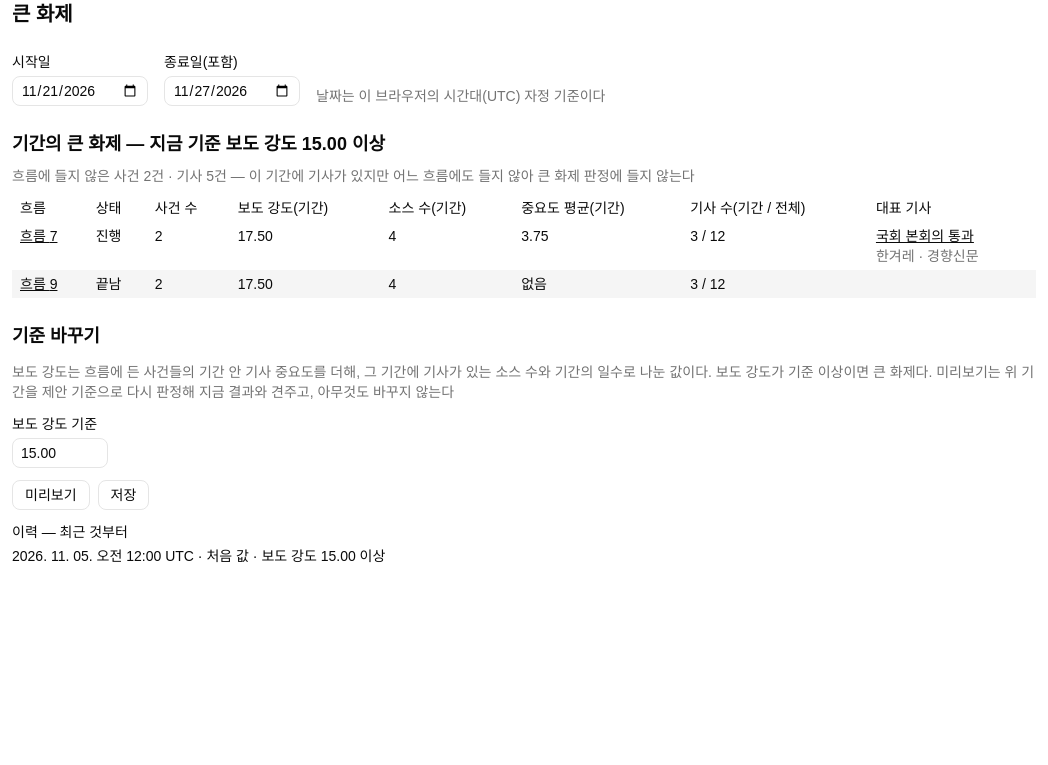
Test: BigStorylinesPage › 미리보기가 두 목록과 들어오고 빠지는 스토리라인을 보이고, 저장 뒤 기준 · 이력을 다시 읽는다
This screenshot has width=1048, height=765.
Replace the text in the field labelled "보도 강도 기준" with "20" at (60, 453), box [12,438,108,468]
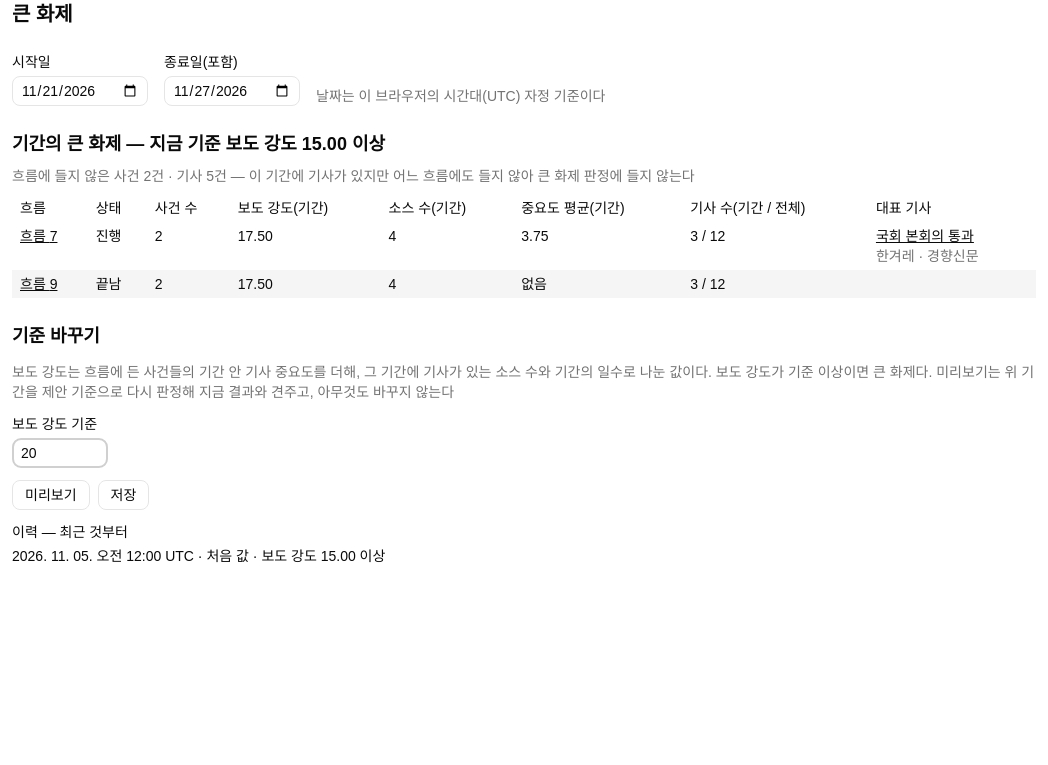
Click the button "미리보기".
click(51, 495)  # box [12,480,90,510]
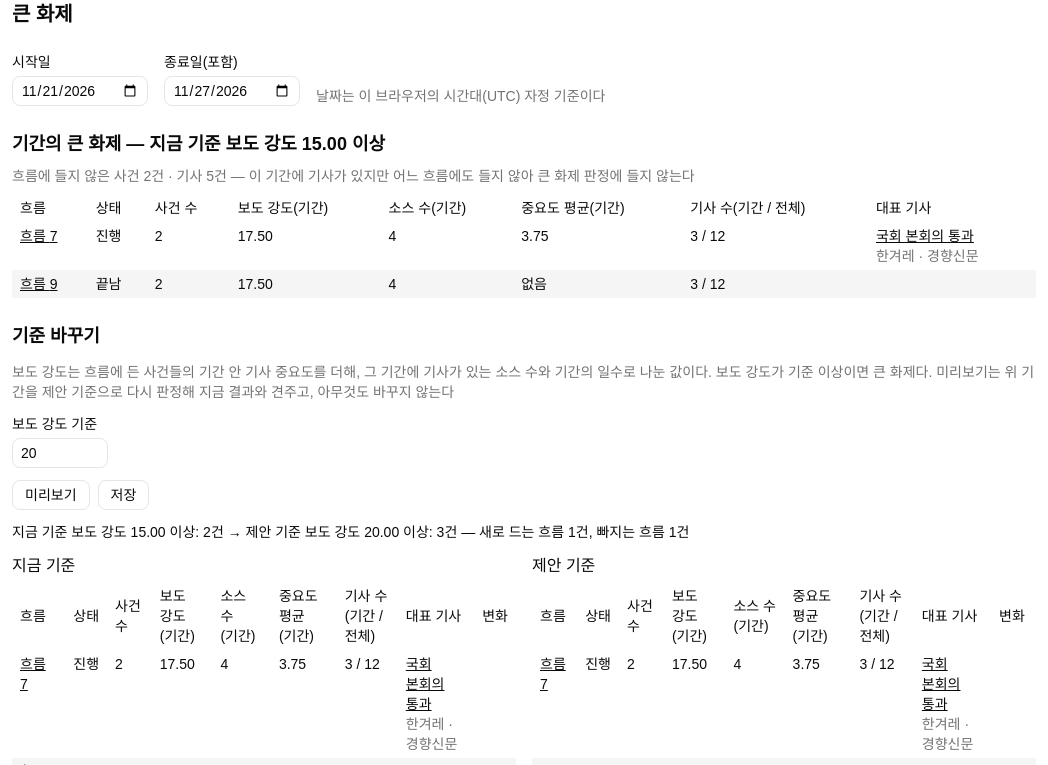
Check: the 2nd cell "흐름 7" is shown, box [12,650,65,758]
Click the button "저장".
click(123, 495)  # box [98,480,149,510]
(page scrolled)
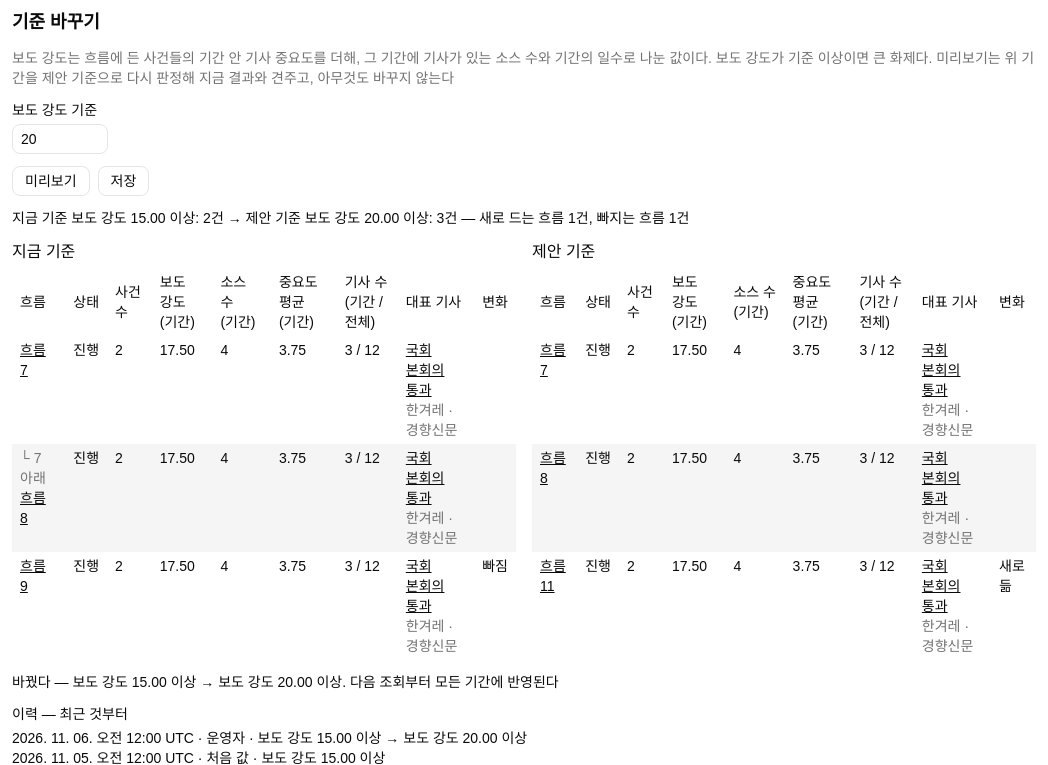
Check: the message shows "바꿨다 — 보도 강도 15.00 이상 → 보도 강도 20.00 이상", box [12,674,559,690]
Check: the element named "기준 이력" shows "운영자", box [206,730,245,746]
